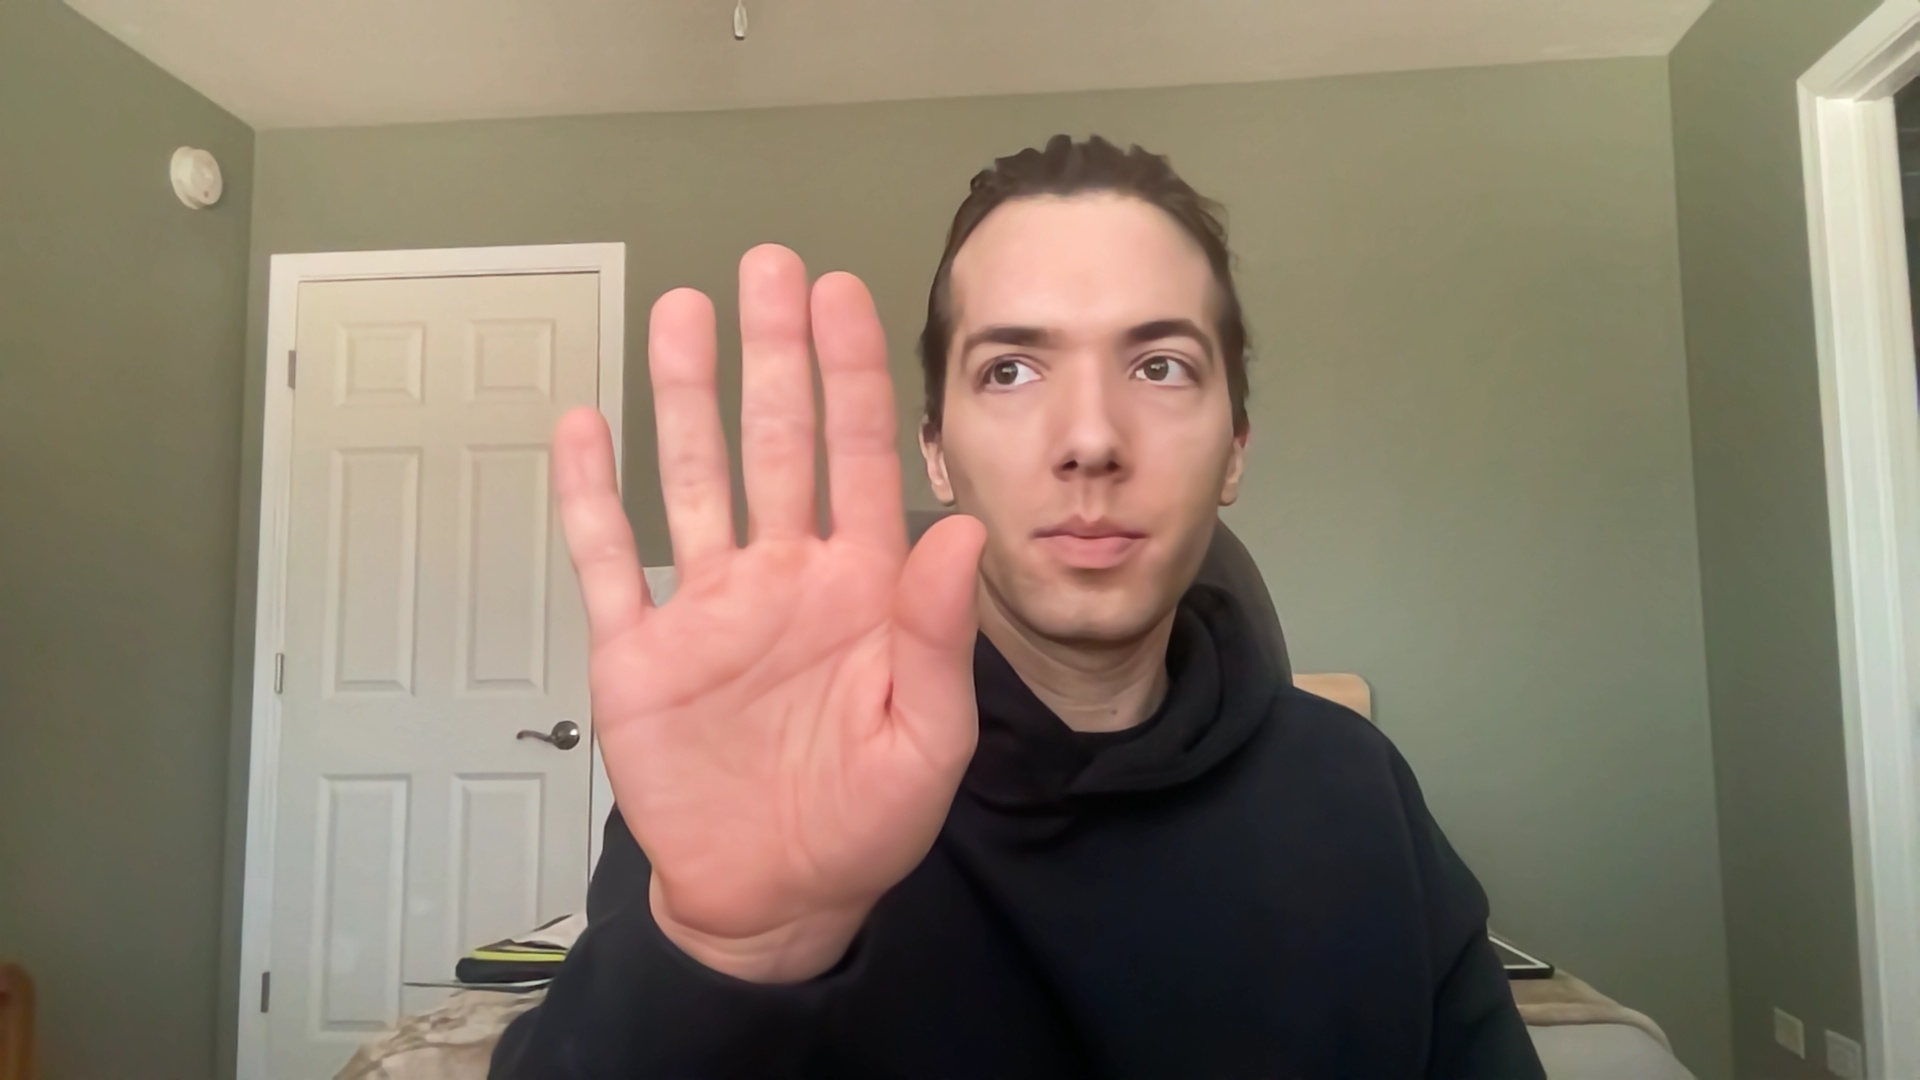Hello: (517, 229, 1009, 976)
